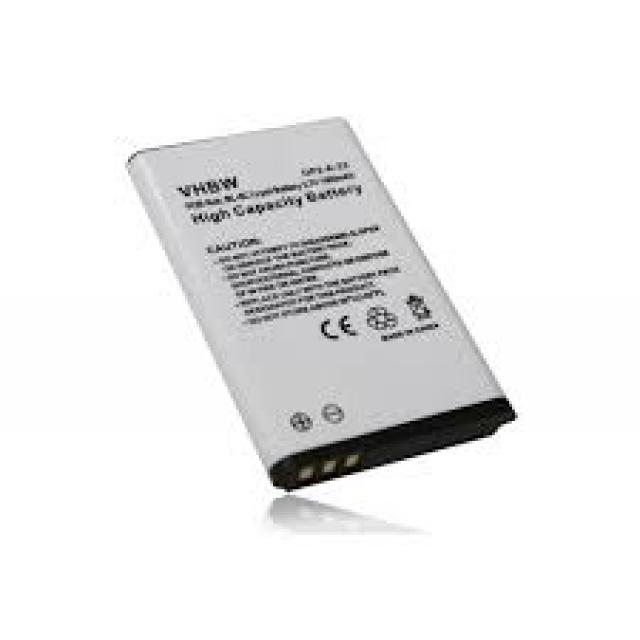non-organic waste: (130, 120, 516, 494)
